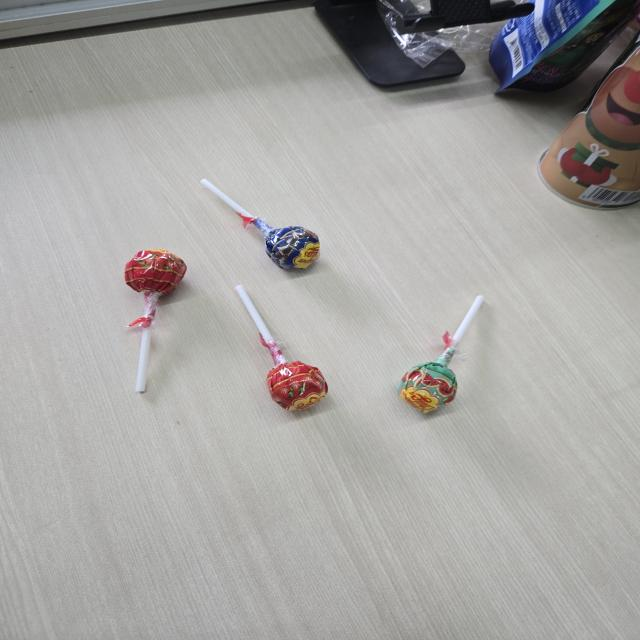lollipop: (228, 279, 336, 419), (192, 172, 322, 277), (394, 291, 491, 420), (117, 242, 192, 399)
